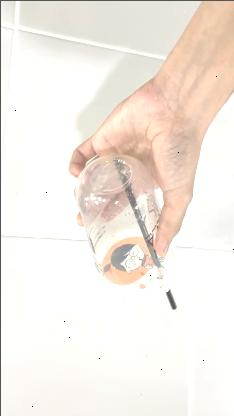Others: (73, 153, 179, 305)
